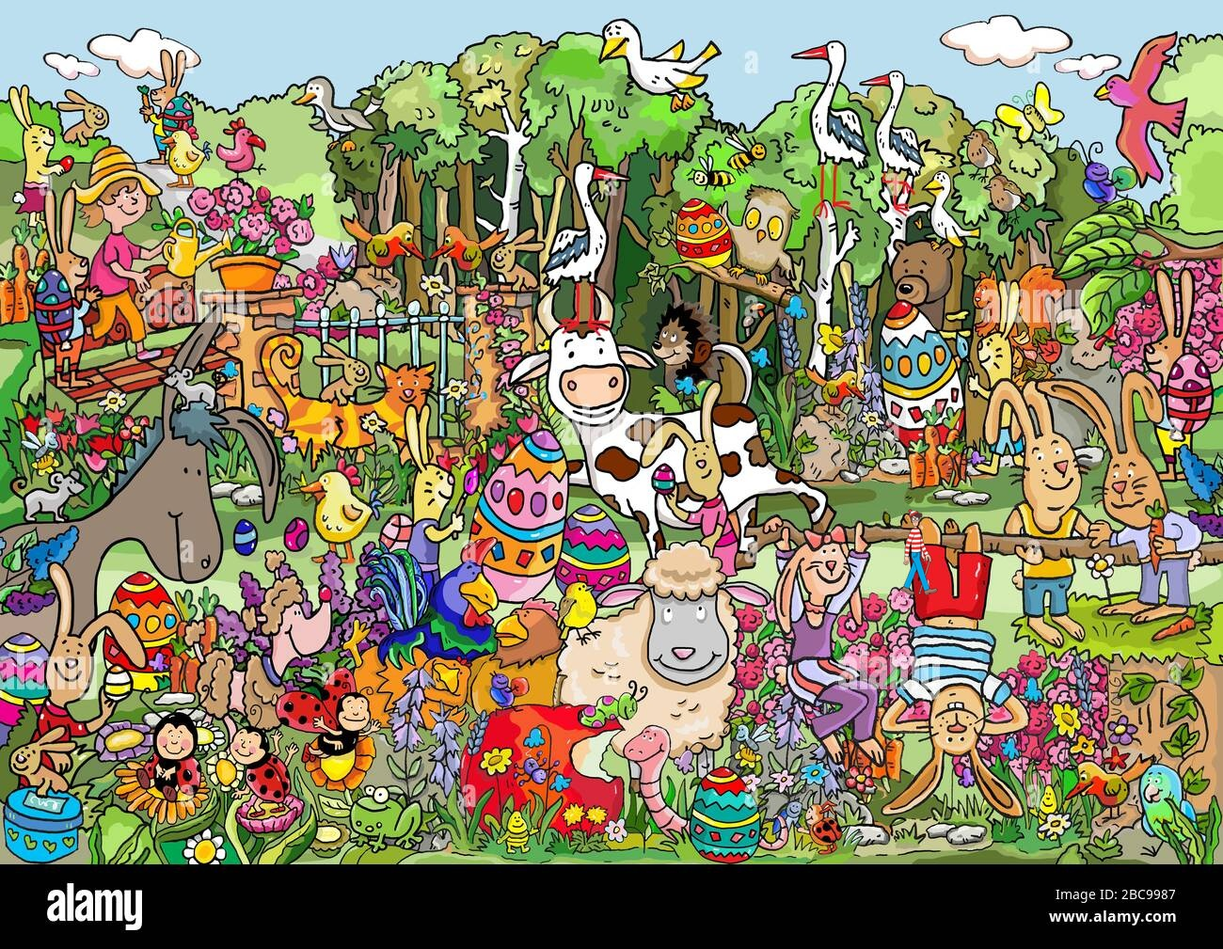waldo: (901, 509, 938, 595)
